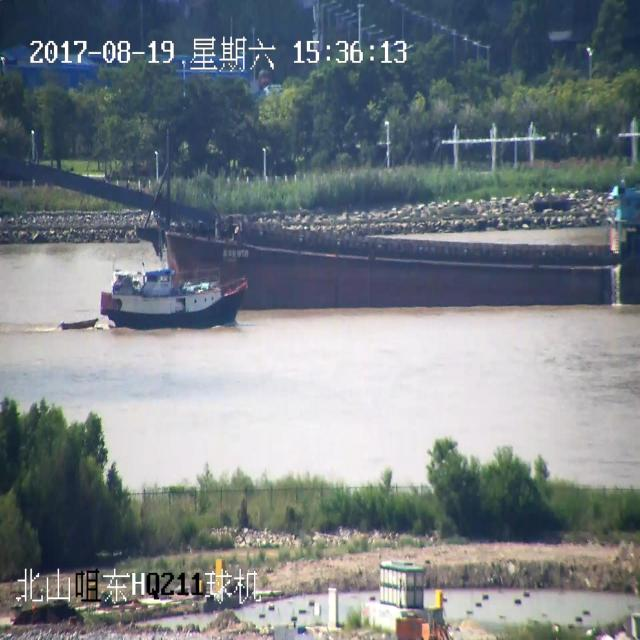cargoship: (24, 110, 618, 325), (97, 225, 262, 342)
